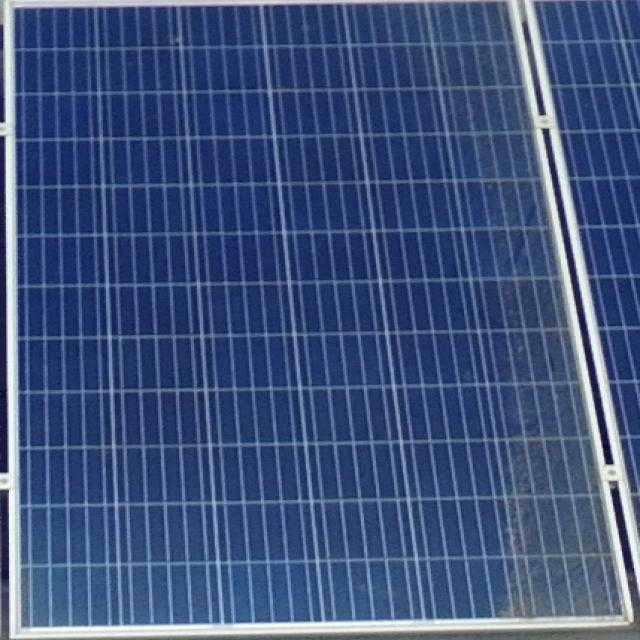Dust: (428, 8, 570, 328), (484, 349, 623, 631)
